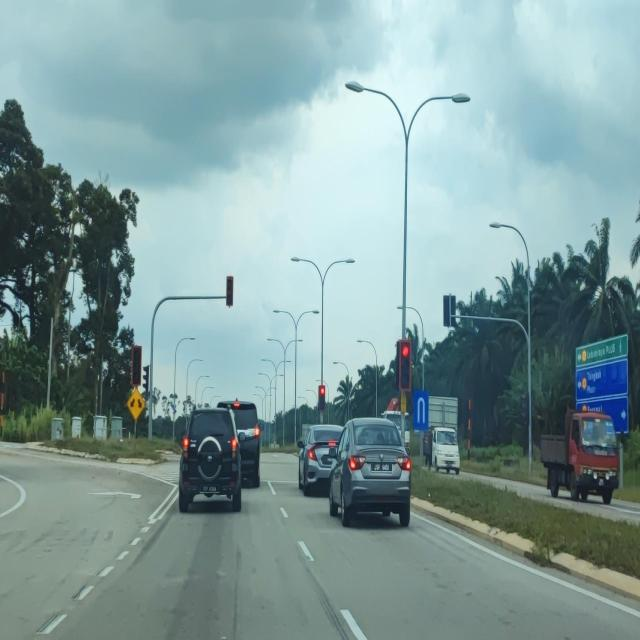car: (328, 417, 412, 528), (296, 424, 345, 497)
traffic light: (396, 340, 412, 391), (130, 345, 142, 386), (443, 295, 456, 327), (226, 276, 233, 307), (318, 385, 326, 411)
